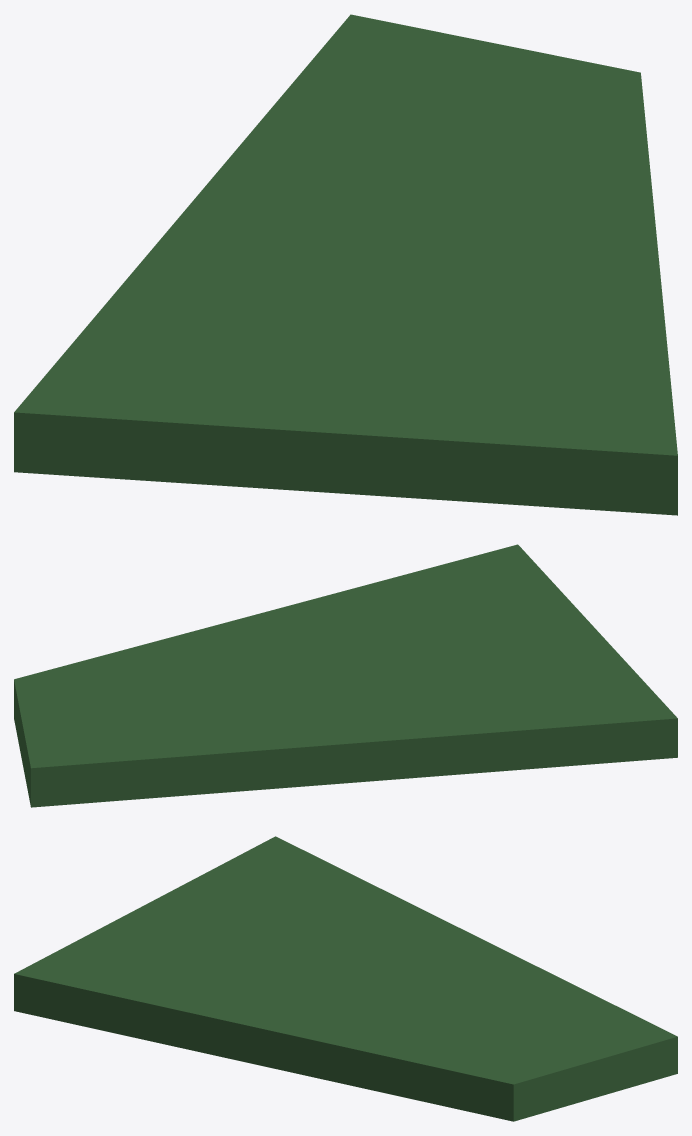
The model's file is x_proval_00_93_1_rmstrd.fbx.
3 renders of one model, top to bottom at view 1: azimuth 30°, elevation 25°; view 2: azimuth 150°, elevation 25°; view 3: azimuth 270°, elevation 25°, orthographic. The views are drawn at different scales.
Parts seen in each view (by area): view 1: x_proval_00_93_1_rmstrd1; view 2: x_proval_00_93_1_rmstrd1; view 3: x_proval_00_93_1_rmstrd1.
Boxes of the visible parts, x1,y1,x2,y2 form: x_proval_00_93_1_rmstrd1: (14, 14, 677, 515); x_proval_00_93_1_rmstrd1: (14, 544, 677, 807); x_proval_00_93_1_rmstrd1: (14, 836, 677, 1121).
Size of the model in its own units: 2.86 by 0.2 by 3.24.
